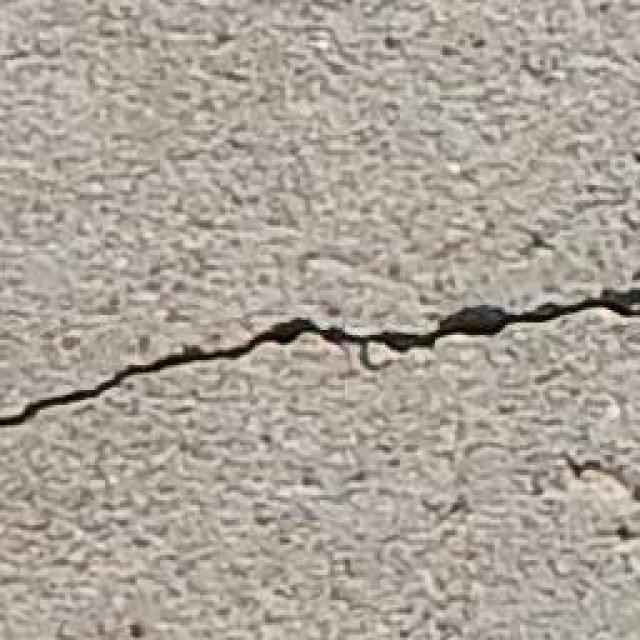concrete-crack: (4, 286, 635, 435)
